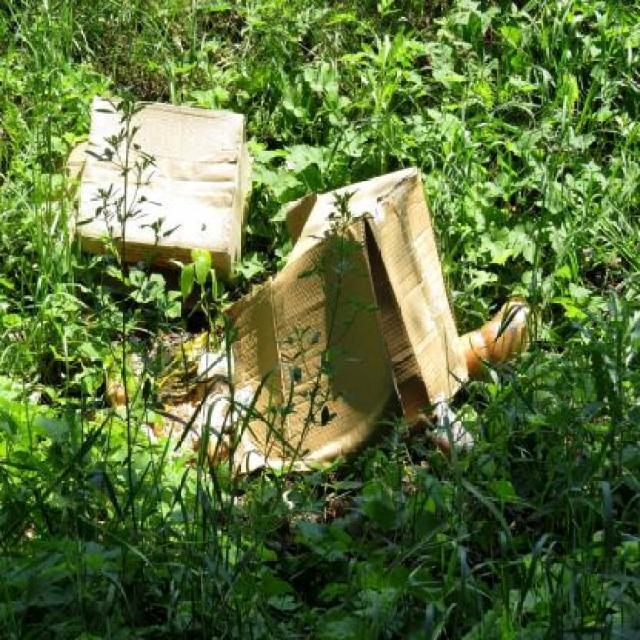garbage: (57, 80, 476, 471)
